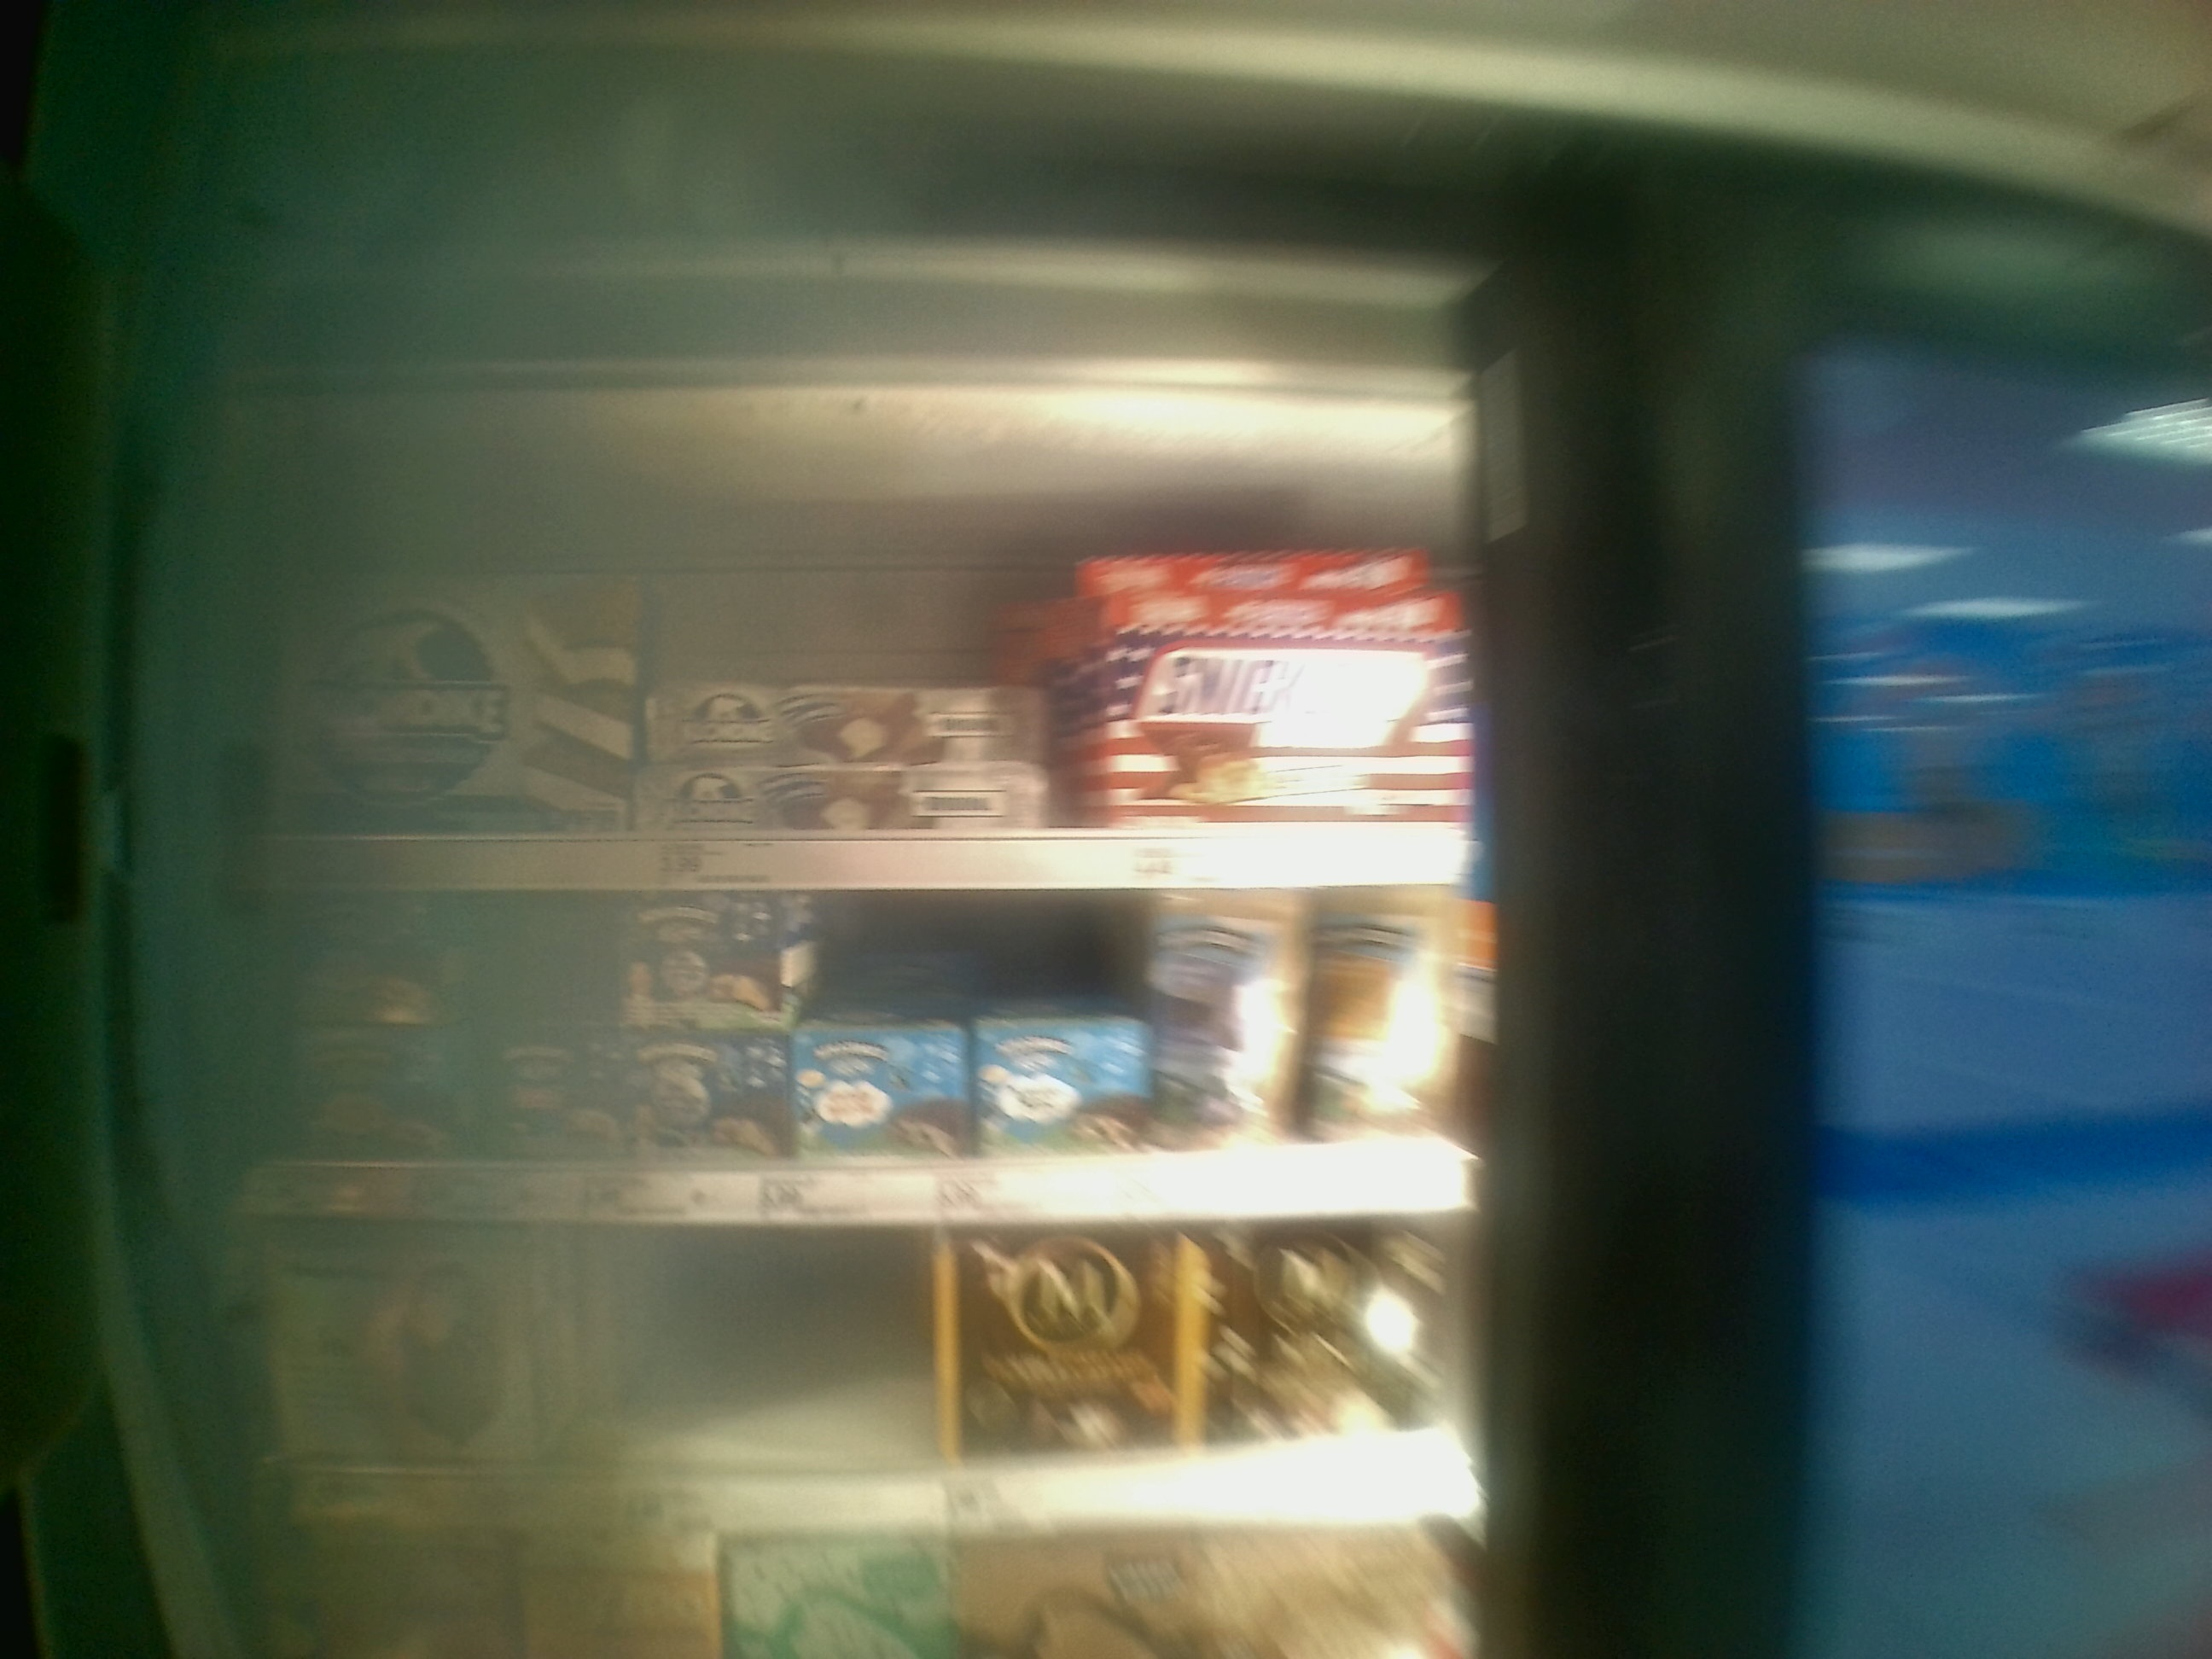shelf: (199, 397, 1486, 894), (199, 894, 1498, 1234)
